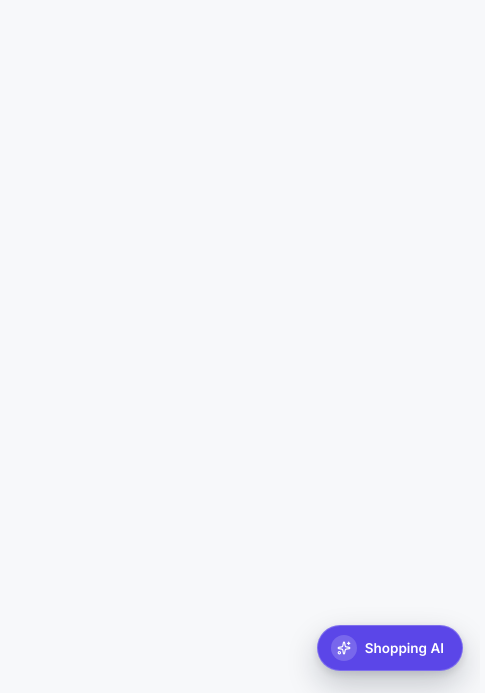
Phase 4 — Storefront Shopping AI Widget, Auth Gate & Safe Checkout Prefill › shows Sign In and Create Account gate for guests without calling customer AI API
Click the button with aria-label "Open Shopping AI" at (390, 648), box x1=317 y1=625 x2=463 y2=671
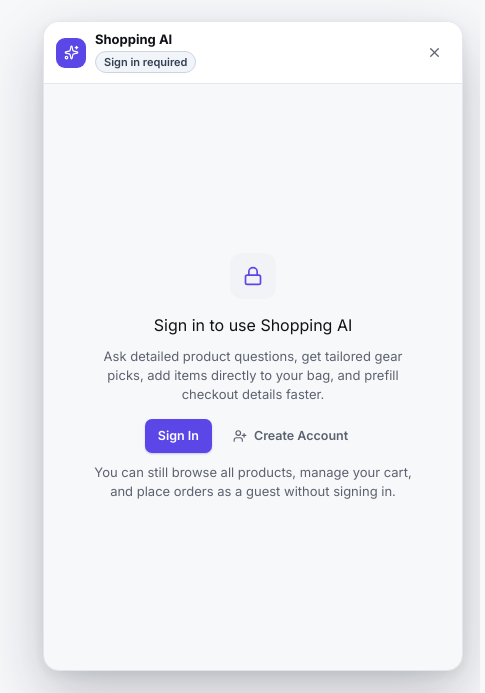
Now the element with test id "storefront-ai-auth-gate" is shown, box x1=94 y1=253 x2=412 y2=499
